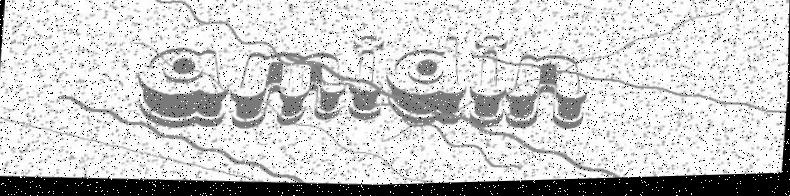a: (134, 44, 231, 133)
d: (384, 35, 471, 132)
i: (467, 35, 509, 132), (346, 34, 389, 124)
m: (226, 49, 350, 136)
n: (501, 54, 592, 135)
